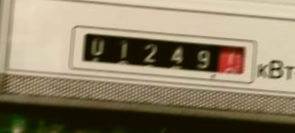0: (88, 36, 104, 57)
1: (115, 39, 129, 61)
2: (140, 42, 158, 65)
4: (169, 44, 184, 65)
7: (223, 46, 238, 67)
9: (195, 49, 209, 71)
screen: (65, 21, 260, 88)
